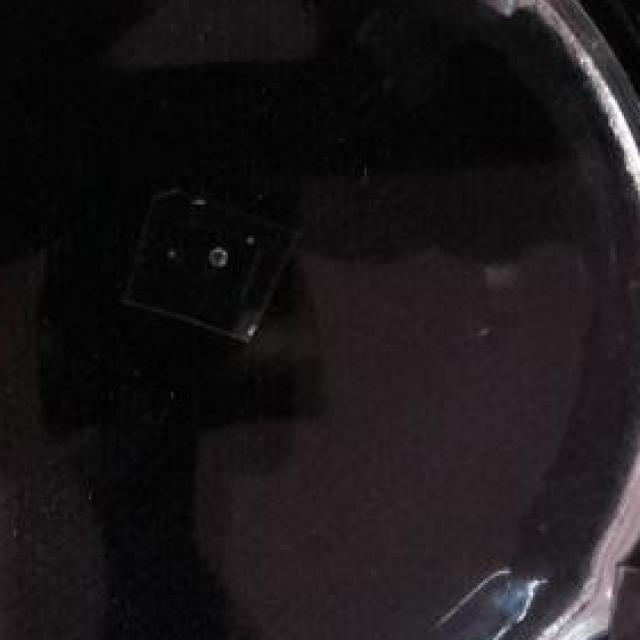Microplastic: (109, 166, 296, 338)
